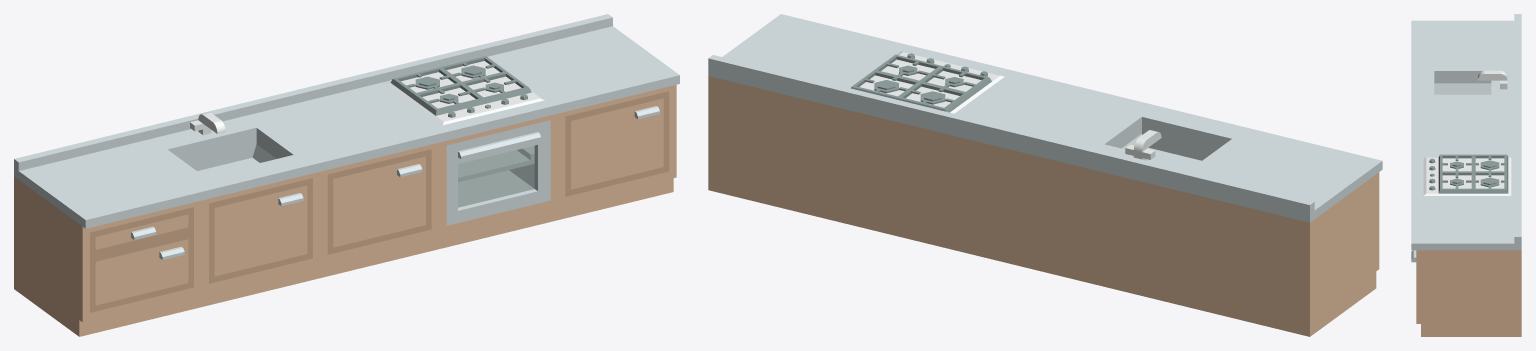
The model's file is kitchen.glb.
3 renders of one model, left to right at view 1: azimuth 30°, elevation 25°; view 2: azimuth 150°, elevation 25°; view 3: azimuth 270°, elevation 25°, orthographic. The views are drawn at different scales.
Visible parts, largest first — view 1: Mesh_door (×5), Mesh_kitchenCabinet (×2), Mesh_kitchenCabinetDrawer_1, Mesh_door_1 (×5), Mesh_kitchenCabinetDrawer, Mesh_kitchenSink_1, Mesh_kitchenCabinet_1 (×2), Mesh_kitchenStove_2, Mesh_kitchenStove, Mesh_kitchenSink, Mesh_kitchenStove_1, Mesh_kitchenStove_3 (+3 smaller); view 2: Mesh_kitchenCabinet_1 (×2), Mesh_kitchenCabinetDrawer_1, Mesh_kitchenCabinet (×2), Mesh_kitchenSink, Mesh_kitchenStove_1, Mesh_kitchenCabinetDrawer, Mesh_kitchenSink_1, Mesh_kitchenStove, Mesh_kitchenStove_2, Mesh_kitchenStove_3, Mesh_kitchenSink_3; view 3: Mesh_kitchenCabinet (×2), Mesh_kitchenCabinet_1, Mesh_kitchenCabinetDrawer, Mesh_kitchenSink_1, Mesh_kitchenStove_2, Mesh_kitchenStove_3, Mesh_kitchenStove, Mesh_kitchenSink_3.
Part boxes in pixels (x1,y1,x2,y2): Mesh_door (×5): (95,98,663,305); Mesh_kitchenCabinet (×2): (252,14,679,170); Mesh_kitchenCabinetDrawer_1: (14,176,201,336); Mesh_door_1 (×5): (90,91,669,312); Mesh_kitchenCabinetDrawer: (14,130,204,228); Mesh_kitchenSink_1: (133,101,323,199); Mesh_kitchenCabinet_1 (×2): (317,85,676,278); Mesh_kitchenStove_2: (390,56,534,207); Mesh_kitchenStove: (371,43,560,141); Mesh_kitchenSink: (198,172,320,307); Mesh_kitchenStove_1: (436,113,557,249); Mesh_kitchenStove_3: (386,61,544,125); Mesh_kitchenCabinet_1 (×2): (708,76,1069,277); Mesh_kitchenCabinetDrawer_1: (1189,172,1379,336); Mesh_kitchenCabinet (×2): (708,14,1141,163); Mesh_kitchenSink: (1069,164,1189,307); Mesh_kitchenStove_1: (828,105,948,248); Mesh_kitchenCabinetDrawer: (1189,131,1382,222); Mesh_kitchenSink_1: (1069,102,1261,193); Mesh_kitchenStove: (828,43,1021,134); Mesh_kitchenStove_2: (851,53,991,112); Mesh_kitchenStove_3: (860,51,1004,113); Mesh_kitchenSink_3: (1125,130,1161,160); Mesh_kitchenCabinet (×2): (1411,103,1521,250); Mesh_kitchenCabinet_1: (1416,250,1521,336); Mesh_kitchenCabinetDrawer: (1411,14,1521,65); Mesh_kitchenSink_1: (1411,58,1521,109); Mesh_kitchenStove_2: (1429,154,1508,193); Mesh_kitchenStove_3: (1423,157,1511,195); Mesh_kitchenStove: (1411,147,1521,198); Mesh_kitchenSink_3: (1478,70,1507,89).
Bounding box in the file's own units: 2.15 × 0.49 × 0.45.
